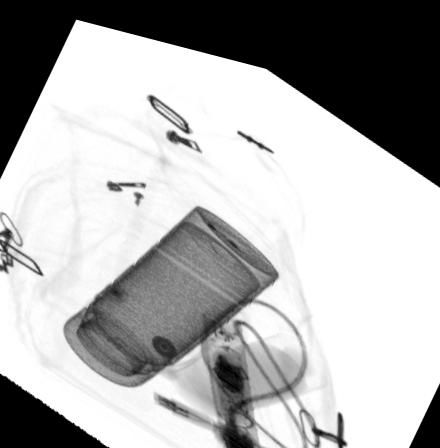Baton: (202, 297, 266, 448)
